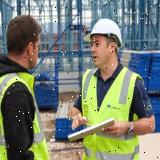Helmet: (82, 18, 123, 48)
Vest: (81, 66, 145, 160), (0, 71, 52, 160)
